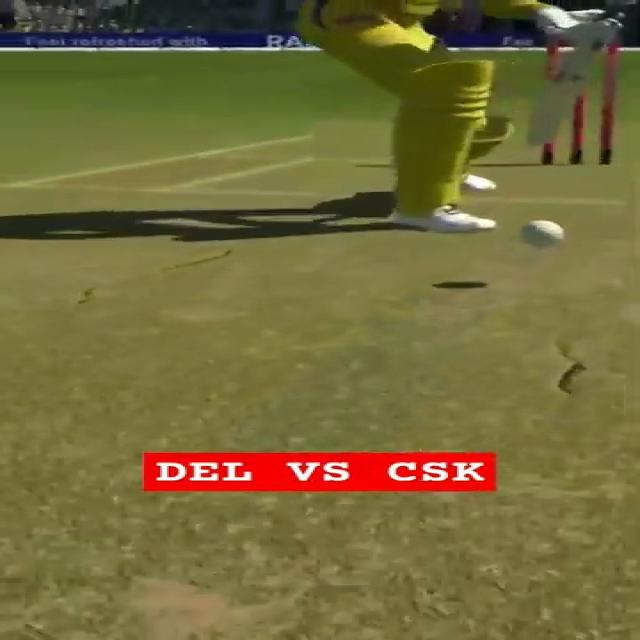ball: (514, 219, 567, 250)
